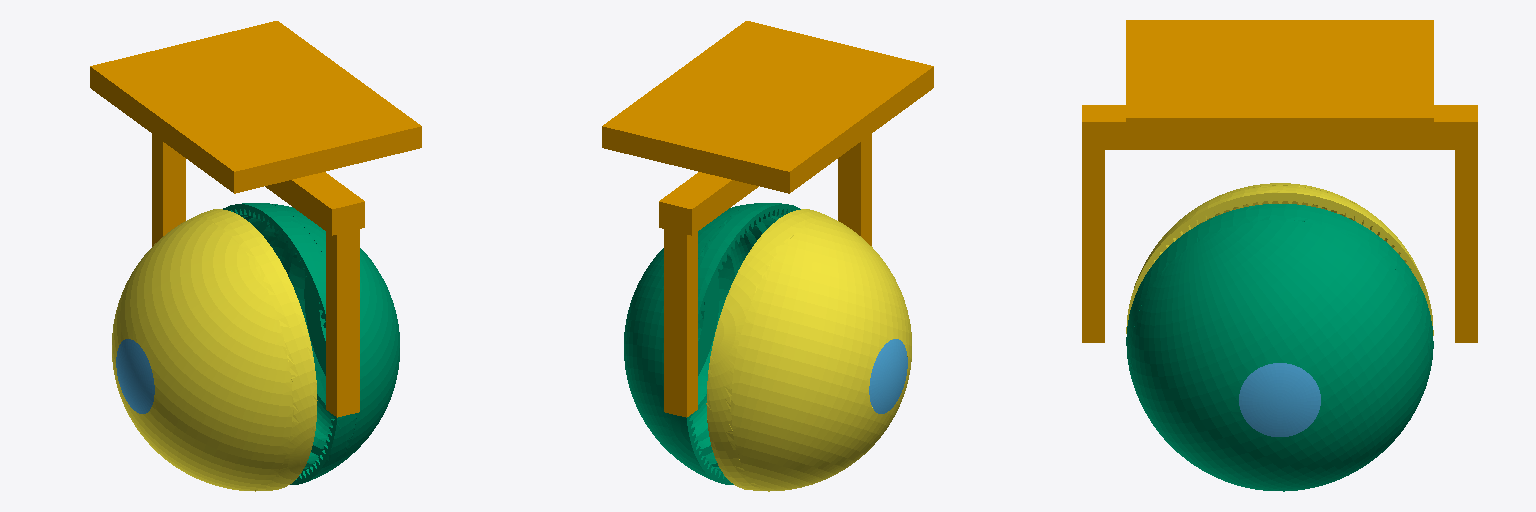
robot.urdf — active_spherical_wheel_approximate:
<?xml version='1.0' encoding='utf-8'?>
<robot name="active_spherical_wheel_approximate">
  <!--Free root fork. URDF preserves geometry, masses and 3 revolutes; moving belt surface control requires the MuJoCo simulator.-->
  <link name="fork">
    <inertial>
      <origin xyz="0 0 0.209504528896" rpy="0 0 0" />
      <mass value="1.4" />
      <inertia ixx="0.00989785364691" iyy="0.00480470478406" izz="0.0116003972892" ixy="0" ixz="0" iyz="0" />
    </inertial>
    <visual name="fork_arm_left">
      <origin xyz="0 0.145 0.0925" rpy="0 0 0" />
      <geometry>
        <box size="0.022 0.018 0.185" />
      </geometry>
    </visual>
    <collision name="fork_arm_left">
      <origin xyz="0 0.145 0.0925" rpy="0 0 0" />
      <geometry>
        <box size="0.022 0.018 0.185" />
      </geometry>
    </collision>
    <visual name="fork_arm_right">
      <origin xyz="0 -0.145 0.0925" rpy="0 0 0" />
      <geometry>
        <box size="0.022 0.018 0.185" />
      </geometry>
    </visual>
    <collision name="fork_arm_right">
      <origin xyz="0 -0.145 0.0925" rpy="0 0 0" />
      <geometry>
        <box size="0.022 0.018 0.185" />
      </geometry>
    </collision>
    <visual name="fork_bridge">
      <origin xyz="0 0 0.18" rpy="0 0 0" />
      <geometry>
        <box size="0.032 0.308 0.024" />
      </geometry>
    </visual>
    <collision name="fork_bridge">
      <origin xyz="0 0 0.18" rpy="0 0 0" />
      <geometry>
        <box size="0.032 0.308 0.024" />
      </geometry>
    </collision>
    <visual name="platform">
      <origin xyz="0 0 0.22" rpy="0 0 0" />
      <geometry>
        <box size="0.18 0.24 0.02" />
      </geometry>
    </visual>
    <collision name="platform">
      <origin xyz="0 0 0.22" rpy="0 0 0" />
      <geometry>
        <box size="0.18 0.24 0.02" />
      </geometry>
    </collision>
  </link>
  <link name="carrier">
    <inertial>
      <origin xyz="0 0 0" rpy="0 0 0" />
      <mass value="0.36" />
      <inertia ixx="0.000295253333298" iyy="0.00194542575563" izz="0.00194542575563" ixy="0" ixz="0" iyz="0" />
    </inertial>
    <visual name="belt_A">
      <geometry>
        <mesh filename="meshes/belt_A.obj" scale="1 1 1" />
      </geometry>
    </visual>
    <collision name="belt_A">
      <geometry>
        <mesh filename="meshes/belt_A.obj" scale="1 1 1" />
      </geometry>
    </collision>
    <visual name="belt_B">
      <geometry>
        <mesh filename="meshes/belt_B.obj" scale="1 1 1" />
      </geometry>
    </visual>
    <collision name="belt_B">
      <geometry>
        <mesh filename="meshes/belt_B.obj" scale="1 1 1" />
      </geometry>
    </collision>
    <visual name="native_carrier">
      <geometry>
        <mesh filename="meshes/native_carrier.obj" scale="1 1 1" />
      </geometry>
    </visual>
  </link>
  <link name="shell_A">
    <inertial>
      <origin xyz="0.0604911092127 0 0" rpy="0 0 0" />
      <mass value="0.15" />
      <inertia ixx="0.0013135150602" iyy="0.000784611313744" izz="0.000784611313744" ixy="0" ixz="0" iyz="0" />
    </inertial>
    <collision name="shell_A_sector_000">
      <geometry>
        <mesh filename="meshes/shell_A_sector_000.obj" scale="1 1 1" />
      </geometry>
    </collision>
    <collision name="shell_A_sector_001">
      <geometry>
        <mesh filename="meshes/shell_A_sector_001.obj" scale="1 1 1" />
      </geometry>
    </collision>
    <collision name="shell_A_sector_002">
      <geometry>
        <mesh filename="meshes/shell_A_sector_002.obj" scale="1 1 1" />
      </geometry>
    </collision>
    <collision name="shell_A_sector_003">
      <geometry>
        <mesh filename="meshes/shell_A_sector_003.obj" scale="1 1 1" />
      </geometry>
    </collision>
    <collision name="shell_A_sector_004">
      <geometry>
        <mesh filename="meshes/shell_A_sector_004.obj" scale="1 1 1" />
      </geometry>
    </collision>
    <collision name="shell_A_sector_005">
      <geometry>
        <mesh filename="meshes/shell_A_sector_005.obj" scale="1 1 1" />
      </geometry>
    </collision>
    <collision name="shell_A_sector_006">
      <geometry>
        <mesh filename="meshes/shell_A_sector_006.obj" scale="1 1 1" />
      </geometry>
    </collision>
    <collision name="shell_A_sector_007">
      <geometry>
        <mesh filename="meshes/shell_A_sector_007.obj" scale="1 1 1" />
      </geometry>
    </collision>
    <collision name="shell_A_sector_008">
      <geometry>
        <mesh filename="meshes/shell_A_sector_008.obj" scale="1 1 1" />
      </geometry>
    </collision>
    <collision name="shell_A_sector_009">
      <geometry>
        <mesh filename="meshes/shell_A_sector_009.obj" scale="1 1 1" />
      </geometry>
    </collision>
    <collision name="shell_A_sector_010">
      <geometry>
        <mesh filename="meshes/shell_A_sector_010.obj" scale="1 1 1" />
      </geometry>
    </collision>
    <collision name="shell_A_sector_011">
      <geometry>
        <mesh filename="meshes/shell_A_sector_011.obj" scale="1 1 1" />
      </geometry>
    </collision>
    <collision name="shell_A_sector_012">
      <geometry>
        <mesh filename="meshes/shell_A_sector_012.obj" scale="1 1 1" />
      </geometry>
    </collision>
    <collision name="shell_A_sector_013">
      <geometry>
        <mesh filename="meshes/shell_A_sector_013.obj" scale="1 1 1" />
      </geometry>
    </collision>
    <collision name="shell_A_sector_014">
      <geometry>
        <mesh filename="meshes/shell_A_sector_014.obj" scale="1 1 1" />
      </geometry>
    </collision>
    <collision name="shell_A_sector_015">
      <geometry>
        <mesh filename="meshes/shell_A_sector_015.obj" scale="1 1 1" />
      </geometry>
    </collision>
    <collision name="shell_A_sector_016">
      <geometry>
        <mesh filename="meshes/shell_A_sector_016.obj" scale="1 1 1" />
      </geometry>
    </collision>
    <collision name="shell_A_sector_017">
      <geometry>
        <mesh filename="meshes/shell_A_sector_017.obj" scale="1 1 1" />
      </geometry>
    </collision>
    <collision name="shell_A_sector_018">
      <geometry>
        <mesh filename="meshes/shell_A_sector_018.obj" scale="1 1 1" />
      </geometry>
    </collision>
    <collision name="shell_A_sector_019">
      <geometry>
        <mesh filename="meshes/shell_A_sector_019.obj" scale="1 1 1" />
      </geometry>
    </collision>
    <collision name="shell_A_sector_020">
      <geometry>
        <mesh filename="meshes/shell_A_sector_020.obj" scale="1 1 1" />
      </geometry>
    </collision>
    <collision name="shell_A_sector_021">
      <geometry>
        <mesh filename="meshes/shell_A_sector_021.obj" scale="1 1 1" />
      </geometry>
    </collision>
    <collision name="shell_A_sector_022">
      <geometry>
        <mesh filename="meshes/shell_A_sector_022.obj" scale="1 1 1" />
      </geometry>
    </collision>
    <collision name="shell_A_sector_023">
      <geometry>
        <mesh filename="meshes/shell_A_sector_023.obj" scale="1 1 1" />
      </geometry>
    </collision>
    <collision name="shell_A_sector_024">
      <geometry>
        <mesh filename="meshes/shell_A_sector_024.obj" scale="1 1 1" />
      </geometry>
    </collision>
    <collision name="shell_A_sector_025">
      <geometry>
        <mesh filename="meshes/shell_A_sector_025.obj" scale="1 1 1" />
      </geometry>
    </collision>
    <collision name="shell_A_sector_026">
      <geometry>
        <mesh filename="meshes/shell_A_sector_026.obj" scale="1 1 1" />
      </geometry>
    </collision>
    <collision name="shell_A_sector_027">
      <geometry>
        <mesh filename="meshes/shell_A_sector_027.obj" scale="1 1 1" />
      </geometry>
    </collision>
    <collision name="shell_A_sector_028">
      <geometry>
        <mesh filename="meshes/shell_A_sector_028.obj" scale="1 1 1" />
      </geometry>
    </collision>
    <collision name="shell_A_sector_029">
      <geometry>
        <mesh filename="meshes/shell_A_sector_029.obj" scale="1 1 1" />
      </geometry>
    </collision>
    <collision name="shell_A_sector_030">
      <geometry>
        <mesh filename="meshes/shell_A_sector_030.obj" scale="1 1 1" />
      </geometry>
    </collision>
    <collision name="shell_A_sector_031">
      <geometry>
        <mesh filename="meshes/shell_A_sector_031.obj" scale="1 1 1" />
      </geometry>
    </collision>
    <collision name="shell_A_sector_032">
      <geometry>
        <mesh filename="meshes/shell_A_sector_032.obj" scale="1 1 1" />
      </geometry>
    </collision>
    <collision name="shell_A_sector_033">
      <geometry>
        <mesh filename="meshes/shell_A_sector_033.obj" scale="1 1 1" />
      </geometry>
    </collision>
    <collision name="shell_A_sector_034">
      <geometry>
        <mesh filename="meshes/shell_A_sector_034.obj" scale="1 1 1" />
      </geometry>
    </collision>
    <collision name="shell_A_sector_035">
      <geometry>
        <mesh filename="meshes/shell_A_sector_035.obj" scale="1 1 1" />
      </geometry>
    </collision>
    <collision name="shell_A_sector_036">
      <geometry>
        <mesh filename="meshes/shell_A_sector_036.obj" scale="1 1 1" />
      </geometry>
    </collision>
    <collision name="shell_A_sector_037">
      <geometry>
        <mesh filename="meshes/shell_A_sector_037.obj" scale="1 1 1" />
      </geometry>
    </collision>
    <collision name="shell_A_sector_038">
      <geometry>
        <mesh filename="meshes/shell_A_sector_038.obj" scale="1 1 1" />
      </geometry>
    </collision>
    <collision name="shell_A_sector_039">
      <geometry>
        <mesh filename="meshes/shell_A_sector_039.obj" scale="1 1 1" />
      </geometry>
    </collision>
    <collision name="shell_A_sector_040">
      <geometry>
        <mesh filename="meshes/shell_A_sector_040.obj" scale="1 1 1" />
      </geometry>
    </collision>
    <collision name="shell_A_sector_041">
      <geometry>
        <mesh filename="meshes/shell_A_sector_041.obj" scale="1 1 1" />
      </geometry>
    </collision>
    <collision name="shell_A_sector_042">
      <geometry>
        <mesh filename="meshes/shell_A_sector_042.obj" scale="1 1 1" />
      </geometry>
    </collision>
    <collision name="shell_A_sector_043">
      <geometry>
        <mesh filename="meshes/shell_A_sector_043.obj" scale="1 1 1" />
      </geometry>
    </collision>
    <collision name="shell_A_sector_044">
      <geometry>
        <mesh filename="meshes/shell_A_sector_044.obj" scale="1 1 1" />
      </geometry>
    </collision>
    <collision name="shell_A_sector_045">
      <geometry>
        <mesh filename="meshes/shell_A_sector_045.obj" scale="1 1 1" />
      </geometry>
    </collision>
    <collision name="shell_A_sector_046">
      <geometry>
        <mesh filename="meshes/shell_A_sector_046.obj" scale="1 1 1" />
      </geometry>
    </collision>
    <collision name="shell_A_sector_047">
      <geometry>
        <mesh filename="meshes/shell_A_sector_047.obj" scale="1 1 1" />
      </geometry>
    </collision>
    <visual name="native_shell_A">
      <geometry>
        <mesh filename="meshes/native_shell_positive.obj" scale="1 1 1" />
      </geometry>
    </visual>
  </link>
  <link name="shell_B">
    <inertial>
      <origin xyz="-0.0604911092127 0 0" rpy="0 0 0" />
      <mass value="0.15" />
      <inertia ixx="0.0013135150602" iyy="0.000784611313744" izz="0.000784611313744" ixy="0" ixz="0" iyz="0" />
    </inertial>
    <collision name="shell_B_sector_000">
      <geometry>
        <mesh filename="meshes/shell_B_sector_000.obj" scale="1 1 1" />
      </geometry>
    </collision>
    <collision name="shell_B_sector_001">
      <geometry>
        <mesh filename="meshes/shell_B_sector_001.obj" scale="1 1 1" />
      </geometry>
    </collision>
    <collision name="shell_B_sector_002">
      <geometry>
        <mesh filename="meshes/shell_B_sector_002.obj" scale="1 1 1" />
      </geometry>
    </collision>
    <collision name="shell_B_sector_003">
      <geometry>
        <mesh filename="meshes/shell_B_sector_003.obj" scale="1 1 1" />
      </geometry>
    </collision>
    <collision name="shell_B_sector_004">
      <geometry>
        <mesh filename="meshes/shell_B_sector_004.obj" scale="1 1 1" />
      </geometry>
    </collision>
    <collision name="shell_B_sector_005">
      <geometry>
        <mesh filename="meshes/shell_B_sector_005.obj" scale="1 1 1" />
      </geometry>
    </collision>
    <collision name="shell_B_sector_006">
      <geometry>
        <mesh filename="meshes/shell_B_sector_006.obj" scale="1 1 1" />
      </geometry>
    </collision>
    <collision name="shell_B_sector_007">
      <geometry>
        <mesh filename="meshes/shell_B_sector_007.obj" scale="1 1 1" />
      </geometry>
    </collision>
    <collision name="shell_B_sector_008">
      <geometry>
        <mesh filename="meshes/shell_B_sector_008.obj" scale="1 1 1" />
      </geometry>
    </collision>
    <collision name="shell_B_sector_009">
      <geometry>
        <mesh filename="meshes/shell_B_sector_009.obj" scale="1 1 1" />
      </geometry>
    </collision>
    <collision name="shell_B_sector_010">
      <geometry>
        <mesh filename="meshes/shell_B_sector_010.obj" scale="1 1 1" />
      </geometry>
    </collision>
    <collision name="shell_B_sector_011">
      <geometry>
        <mesh filename="meshes/shell_B_sector_011.obj" scale="1 1 1" />
      </geometry>
    </collision>
    <collision name="shell_B_sector_012">
      <geometry>
        <mesh filename="meshes/shell_B_sector_012.obj" scale="1 1 1" />
      </geometry>
    </collision>
    <collision name="shell_B_sector_013">
      <geometry>
        <mesh filename="meshes/shell_B_sector_013.obj" scale="1 1 1" />
      </geometry>
    </collision>
    <collision name="shell_B_sector_014">
      <geometry>
        <mesh filename="meshes/shell_B_sector_014.obj" scale="1 1 1" />
      </geometry>
    </collision>
    <collision name="shell_B_sector_015">
      <geometry>
        <mesh filename="meshes/shell_B_sector_015.obj" scale="1 1 1" />
      </geometry>
    </collision>
    <collision name="shell_B_sector_016">
      <geometry>
        <mesh filename="meshes/shell_B_sector_016.obj" scale="1 1 1" />
      </geometry>
    </collision>
    <collision name="shell_B_sector_017">
      <geometry>
        <mesh filename="meshes/shell_B_sector_017.obj" scale="1 1 1" />
      </geometry>
    </collision>
    <collision name="shell_B_sector_018">
      <geometry>
        <mesh filename="meshes/shell_B_sector_018.obj" scale="1 1 1" />
      </geometry>
    </collision>
    <collision name="shell_B_sector_019">
      <geometry>
        <mesh filename="meshes/shell_B_sector_019.obj" scale="1 1 1" />
      </geometry>
    </collision>
    <collision name="shell_B_sector_020">
      <geometry>
        <mesh filename="meshes/shell_B_sector_020.obj" scale="1 1 1" />
      </geometry>
    </collision>
    <collision name="shell_B_sector_021">
      <geometry>
        <mesh filename="meshes/shell_B_sector_021.obj" scale="1 1 1" />
      </geometry>
    </collision>
    <collision name="shell_B_sector_022">
      <geometry>
        <mesh filename="meshes/shell_B_sector_022.obj" scale="1 1 1" />
      </geometry>
    </collision>
    <collision name="shell_B_sector_023">
      <geometry>
        <mesh filename="meshes/shell_B_sector_023.obj" scale="1 1 1" />
      </geometry>
    </collision>
    <collision name="shell_B_sector_024">
      <geometry>
        <mesh filename="meshes/shell_B_sector_024.obj" scale="1 1 1" />
      </geometry>
    </collision>
    <collision name="shell_B_sector_025">
      <geometry>
        <mesh filename="meshes/shell_B_sector_025.obj" scale="1 1 1" />
      </geometry>
    </collision>
    <collision name="shell_B_sector_026">
      <geometry>
        <mesh filename="meshes/shell_B_sector_026.obj" scale="1 1 1" />
      </geometry>
    </collision>
    <collision name="shell_B_sector_027">
      <geometry>
        <mesh filename="meshes/shell_B_sector_027.obj" scale="1 1 1" />
      </geometry>
    </collision>
    <collision name="shell_B_sector_028">
      <geometry>
        <mesh filename="meshes/shell_B_sector_028.obj" scale="1 1 1" />
      </geometry>
    </collision>
    <collision name="shell_B_sector_029">
      <geometry>
        <mesh filename="meshes/shell_B_sector_029.obj" scale="1 1 1" />
      </geometry>
    </collision>
    <collision name="shell_B_sector_030">
      <geometry>
        <mesh filename="meshes/shell_B_sector_030.obj" scale="1 1 1" />
      </geometry>
    </collision>
    <collision name="shell_B_sector_031">
      <geometry>
        <mesh filename="meshes/shell_B_sector_031.obj" scale="1 1 1" />
      </geometry>
    </collision>
    <collision name="shell_B_sector_032">
      <geometry>
        <mesh filename="meshes/shell_B_sector_032.obj" scale="1 1 1" />
      </geometry>
    </collision>
    <collision name="shell_B_sector_033">
      <geometry>
        <mesh filename="meshes/shell_B_sector_033.obj" scale="1 1 1" />
      </geometry>
    </collision>
    <collision name="shell_B_sector_034">
      <geometry>
        <mesh filename="meshes/shell_B_sector_034.obj" scale="1 1 1" />
      </geometry>
    </collision>
    <collision name="shell_B_sector_035">
      <geometry>
        <mesh filename="meshes/shell_B_sector_035.obj" scale="1 1 1" />
      </geometry>
    </collision>
    <collision name="shell_B_sector_036">
      <geometry>
        <mesh filename="meshes/shell_B_sector_036.obj" scale="1 1 1" />
      </geometry>
    </collision>
    <collision name="shell_B_sector_037">
      <geometry>
        <mesh filename="meshes/shell_B_sector_037.obj" scale="1 1 1" />
      </geometry>
    </collision>
    <collision name="shell_B_sector_038">
      <geometry>
        <mesh filename="meshes/shell_B_sector_038.obj" scale="1 1 1" />
      </geometry>
    </collision>
    <collision name="shell_B_sector_039">
      <geometry>
        <mesh filename="meshes/shell_B_sector_039.obj" scale="1 1 1" />
      </geometry>
    </collision>
    <collision name="shell_B_sector_040">
      <geometry>
        <mesh filename="meshes/shell_B_sector_040.obj" scale="1 1 1" />
      </geometry>
    </collision>
    <collision name="shell_B_sector_041">
      <geometry>
        <mesh filename="meshes/shell_B_sector_041.obj" scale="1 1 1" />
      </geometry>
    </collision>
    <collision name="shell_B_sector_042">
      <geometry>
        <mesh filename="meshes/shell_B_sector_042.obj" scale="1 1 1" />
      </geometry>
    </collision>
    <collision name="shell_B_sector_043">
      <geometry>
        <mesh filename="meshes/shell_B_sector_043.obj" scale="1 1 1" />
      </geometry>
    </collision>
    <collision name="shell_B_sector_044">
      <geometry>
        <mesh filename="meshes/shell_B_sector_044.obj" scale="1 1 1" />
      </geometry>
    </collision>
    <collision name="shell_B_sector_045">
      <geometry>
        <mesh filename="meshes/shell_B_sector_045.obj" scale="1 1 1" />
      </geometry>
    </collision>
    <collision name="shell_B_sector_046">
      <geometry>
        <mesh filename="meshes/shell_B_sector_046.obj" scale="1 1 1" />
      </geometry>
    </collision>
    <collision name="shell_B_sector_047">
      <geometry>
        <mesh filename="meshes/shell_B_sector_047.obj" scale="1 1 1" />
      </geometry>
    </collision>
    <visual name="native_shell_B">
      <geometry>
        <mesh filename="meshes/native_shell_negative.obj" scale="1 1 1" />
      </geometry>
    </visual>
  </link>
  <joint name="shaft" type="continuous">
    <parent link="fork" />
    <child link="carrier" />
    <origin xyz="0 0 0" rpy="0 0 0" />
    <axis xyz="0 1 0" />
    <limit effort="1.5" velocity="100" />
    <dynamics damping="0.0001" friction="0" />
  </joint>
  <joint name="shell_A_joint" type="continuous">
    <parent link="carrier" />
    <child link="shell_A" />
    <origin xyz="0 0 0" rpy="0 0 0" />
    <axis xyz="1 0 0" />
    <limit effort="0.6" velocity="100" />
    <dynamics damping="0.0001" friction="0" />
  </joint>
  <joint name="shell_B_joint" type="continuous">
    <parent link="carrier" />
    <child link="shell_B" />
    <origin xyz="0 0 0" rpy="0 0 0" />
    <axis xyz="1 0 0" />
    <limit effort="0.6" velocity="100" />
    <dynamics damping="0.0001" friction="0" />
  </joint>
</robot>

--- Facts derived from the render (not from the file) ---
Views: 3 orthographic renders of the robot side by side, from view 1: azimuth 30°, elevation 25°; view 2: azimuth 150°, elevation 25°; view 3: azimuth 270°, elevation 25°.
Robot: active_spherical_wheel_approximate — 4 links, 3 joints (3 continuous); root link fork; default pose: every joint at zero.
Links seen in each view (by area): view 1: fork, shell_B, shell_A, carrier; view 2: fork, shell_B, shell_A, carrier; view 3: shell_A, fork, shell_B, carrier.
Boxes of the visible links, x1,y1,x2,y2 form: fork: (90, 21, 421, 417); shell_B: (112, 209, 317, 491); shell_A: (223, 203, 399, 484); carrier: (116, 339, 154, 413); fork: (602, 21, 933, 417); shell_B: (706, 209, 911, 491); shell_A: (624, 203, 800, 484); carrier: (869, 339, 907, 413); shell_A: (1126, 204, 1433, 491); fork: (1082, 20, 1477, 342); shell_B: (1126, 183, 1433, 335); carrier: (1239, 363, 1320, 436).
Size in the robot's own frame: 0.24 by 0.308 by 0.3496 metres.
4 mesh visuals loaded from 5 distinct referenced files (4 OBJ); not drawn: 1 (reference not matched to a file when rendering).
